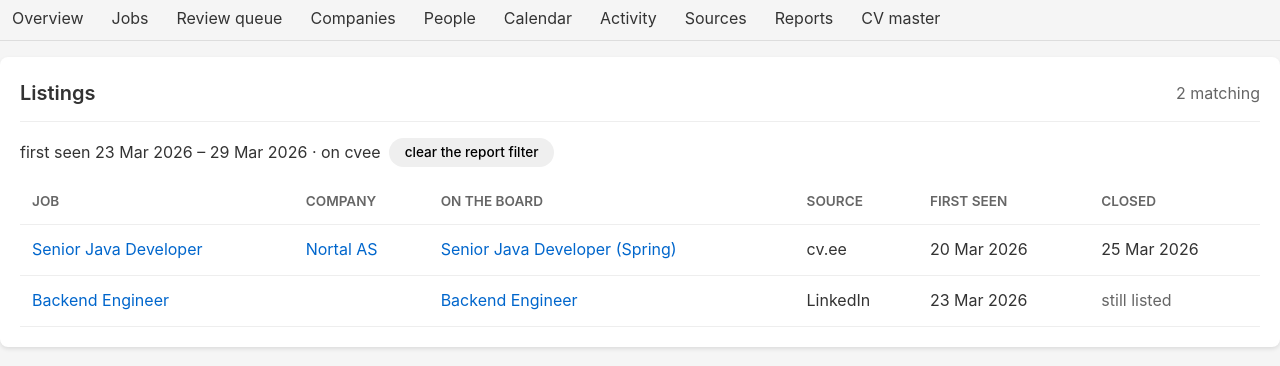
Test: MasiListings › clears the report filter back to every listing, newest first
Expected: the element "report filter" shows "first seen 23 Mar 2026 – 29 Mar 2026 · on cvee", [20,138,554,167]
Click the button "clear the report filter".
click(472, 153)  # box [389,138,554,167]
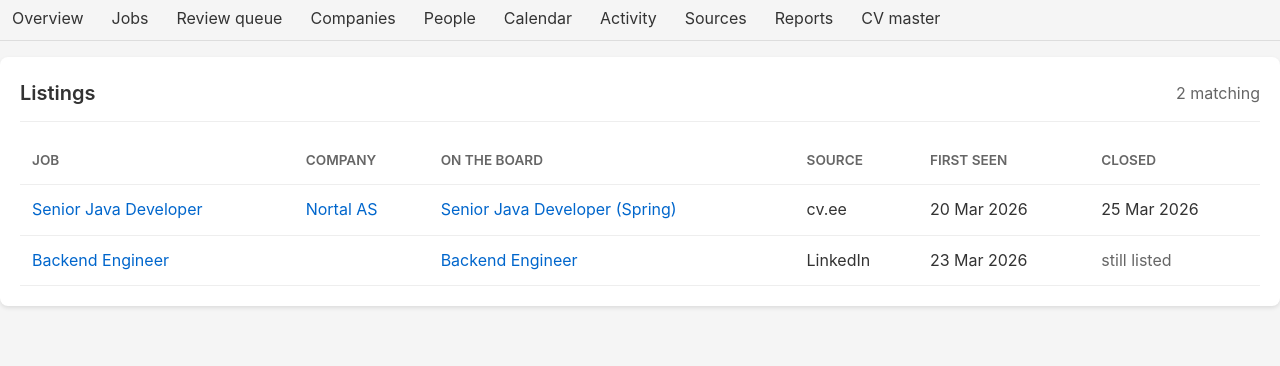
Result: the button "report filter" is gone
